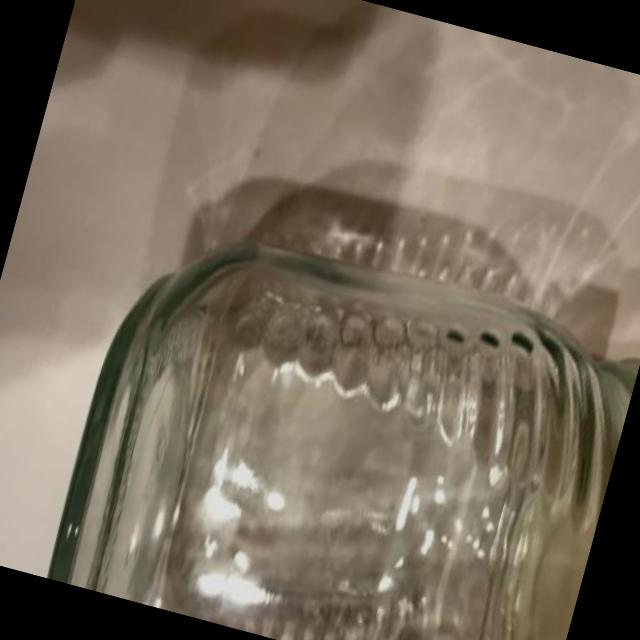chai_thuy_tinh: (46, 242, 640, 640)
